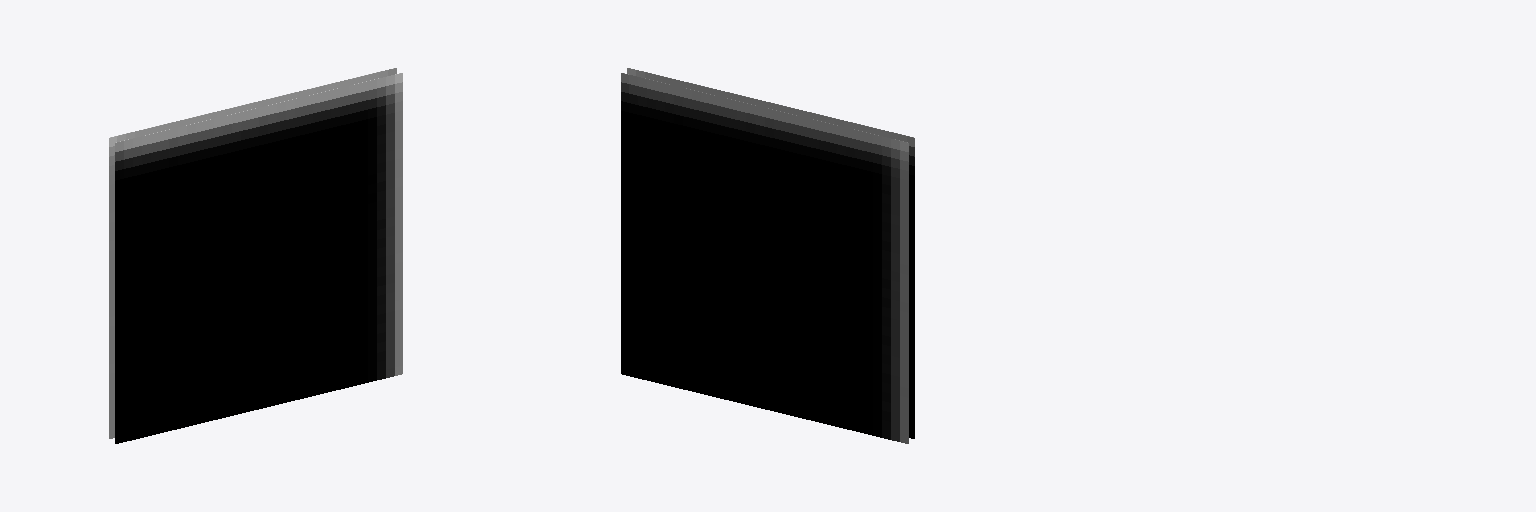
The picture shows the model from 3 angles: view 1: azimuth 30°, elevation 25°; view 2: azimuth 150°, elevation 25°; view 3: azimuth 270°, elevation 25°; orthographic projection.
Parts seen in each view (by area): view 1: translate_poly_xz; view 2: translate_poly_xz; view 3: none.
Boxes of the visible parts, x1,y1,x2,y2 form: translate_poly_xz: [109, 68, 402, 443]; translate_poly_xz: [621, 68, 914, 443].
Bounding box in the file's own units: 25 × 25 × 1.
Materials: 1 (1 with a texture image).